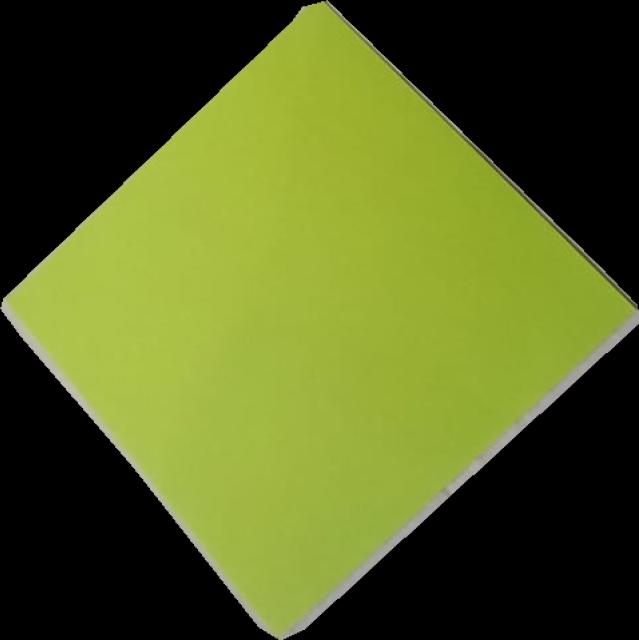Boxes: (0, 0, 639, 640)
